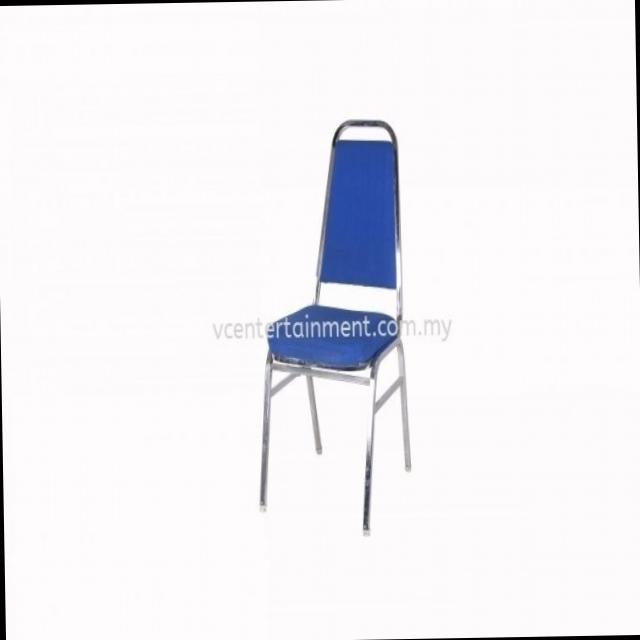Chair: (250, 111, 420, 546)
